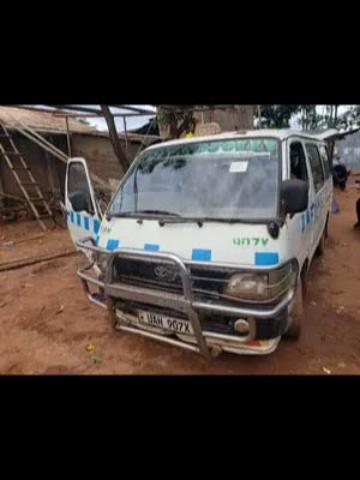van: (61, 121, 332, 353)
